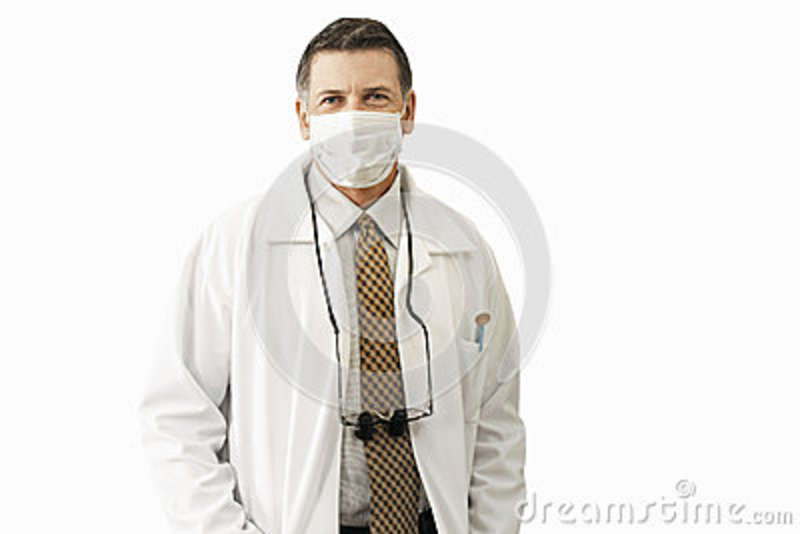mask: (309, 115, 410, 189)
